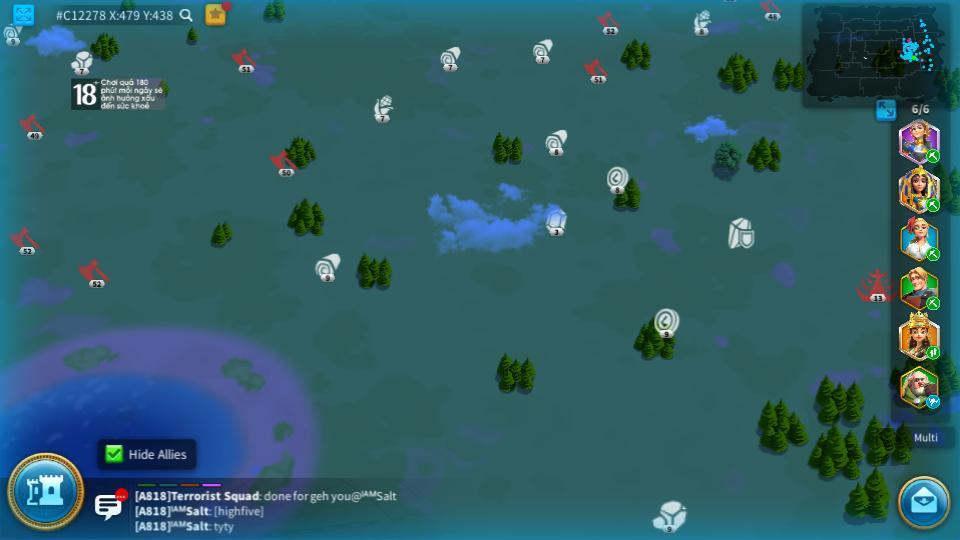gem-z-out: (660, 501, 684, 518)
march_farming: (925, 197, 941, 212), (925, 345, 941, 359), (924, 149, 939, 162), (924, 248, 939, 260), (925, 297, 941, 308)
